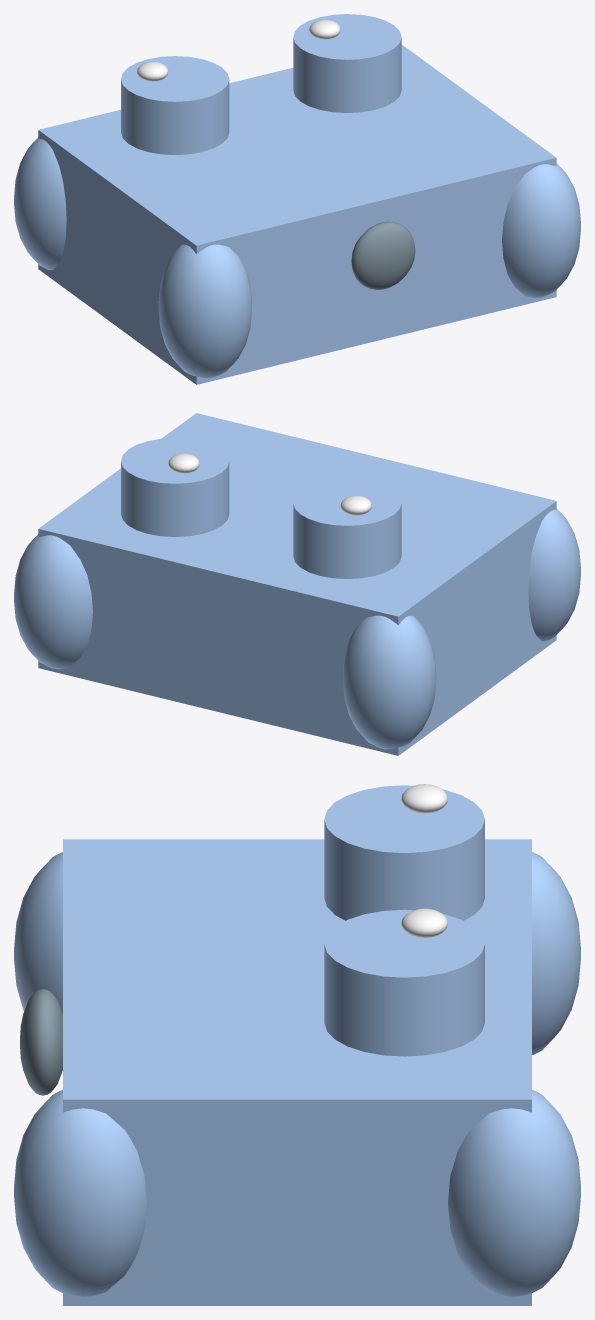
The model's file is block-blue.glb.
3 renders of one model, top to bottom at view 1: azimuth 30°, elevation 25°; view 2: azimuth 150°, elevation 25°; view 3: azimuth 270°, elevation 25°, orthographic. The views are drawn at different scales.
Visible parts, largest first — view 1: rounded body, rounded corner (×3), top peg (×2), front dot, peg shine (×2); view 2: rounded body, rounded corner (×3), top peg (×2), peg shine (×2); view 3: rounded body, rounded corner (×4), top peg (×2), front dot, peg shine (×2).
Part boxes in pixels (x1,y1,x2,y2): rounded body: [38, 44, 556, 384]; rounded corner (×3): [14, 137, 580, 378]; top peg (×2): [121, 14, 401, 154]; front dot: [351, 221, 415, 289]; peg shine (×2): [137, 19, 340, 81]; rounded body: [38, 413, 556, 755]; rounded corner (×3): [14, 508, 580, 749]; top peg (×2): [121, 438, 401, 578]; peg shine (×2): [168, 453, 371, 515]; rounded body: [63, 839, 531, 1305]; rounded corner (×4): [14, 852, 580, 1297]; top peg (×2): [324, 785, 484, 1056]; front dot: [20, 989, 62, 1095]; peg shine (×2): [401, 784, 447, 937].
Bounding box in the file's own units: 1.05 × 0.518 × 0.8468.
